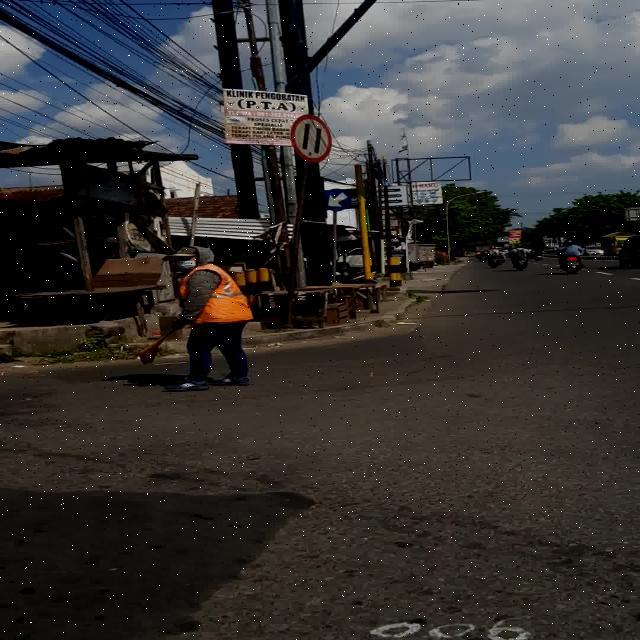Larangan Muatan - 10 ton: (290, 114, 332, 162)
